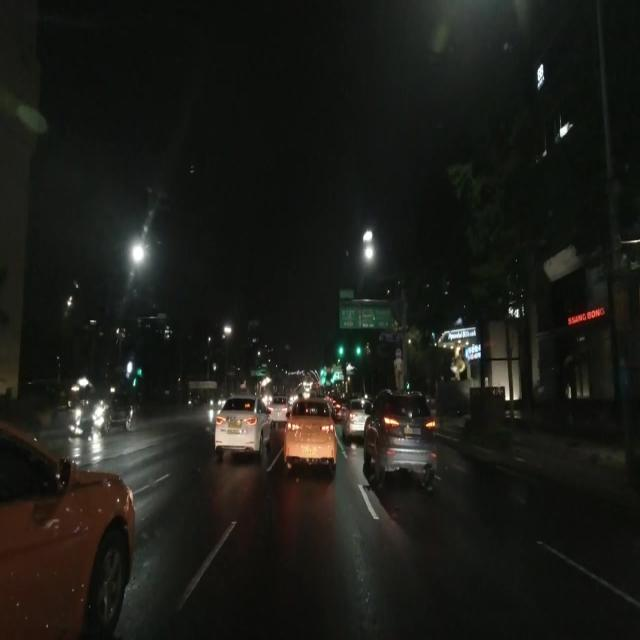Car: (5, 425, 134, 639), (360, 387, 437, 478), (285, 396, 336, 463), (214, 395, 269, 451), (344, 393, 365, 435)
